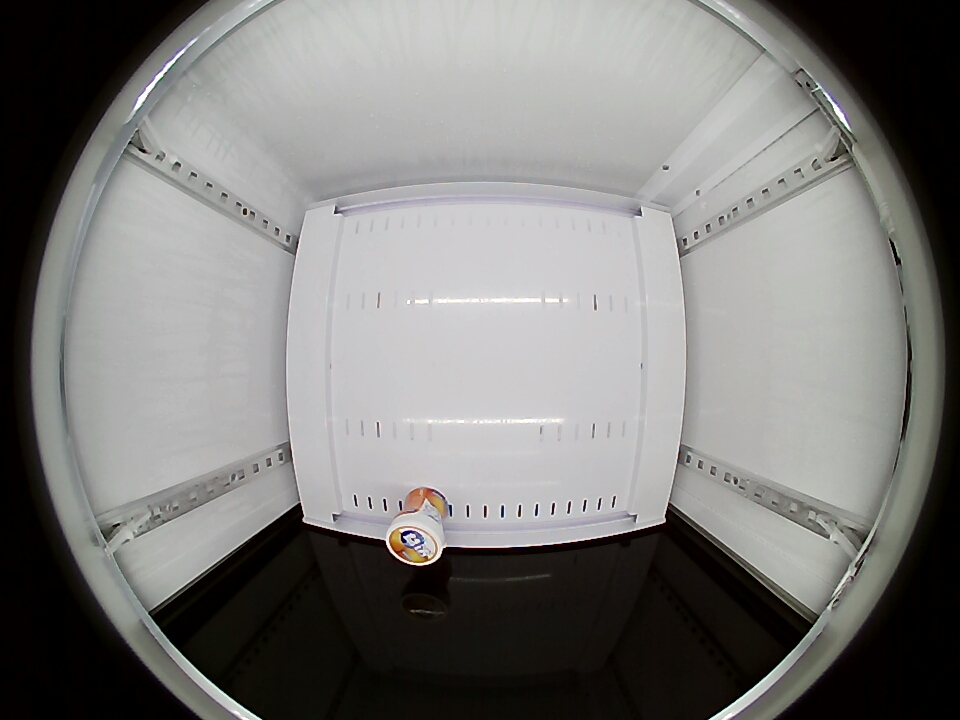yida: (386, 512, 447, 566)
